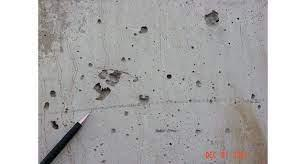Spalling: (42, 9, 262, 164)
